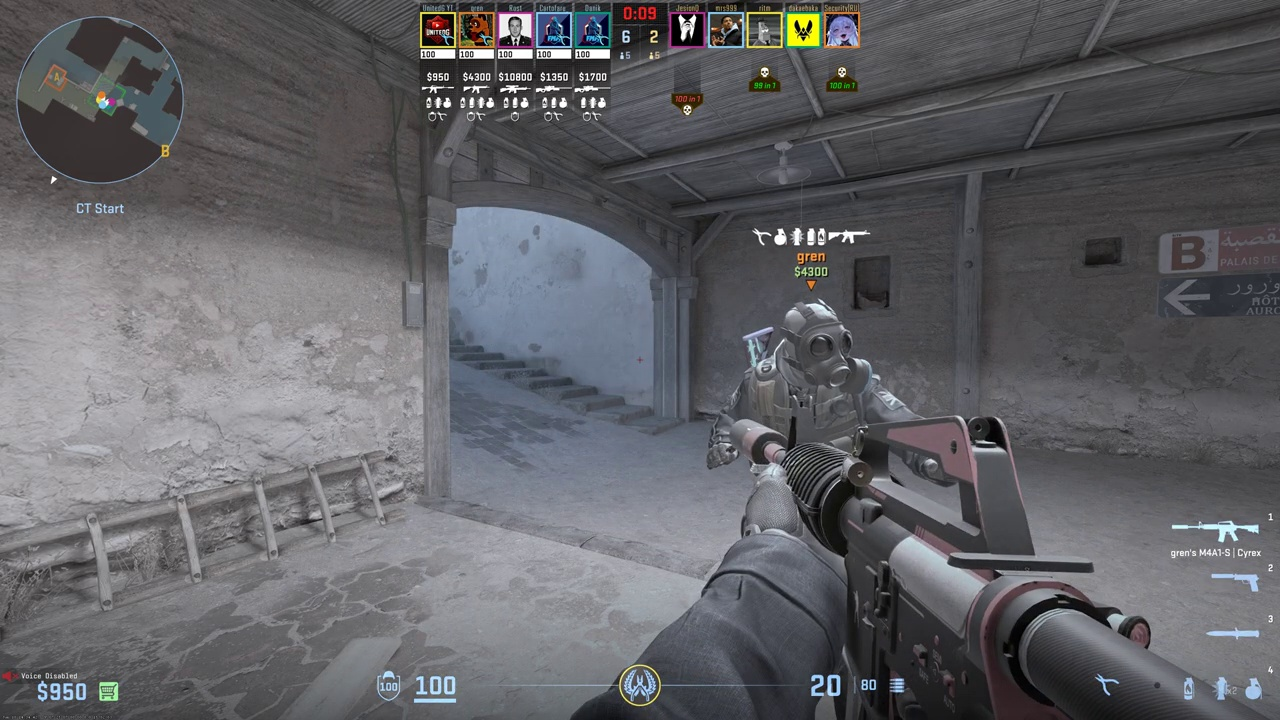CT: (730, 300, 887, 535)
